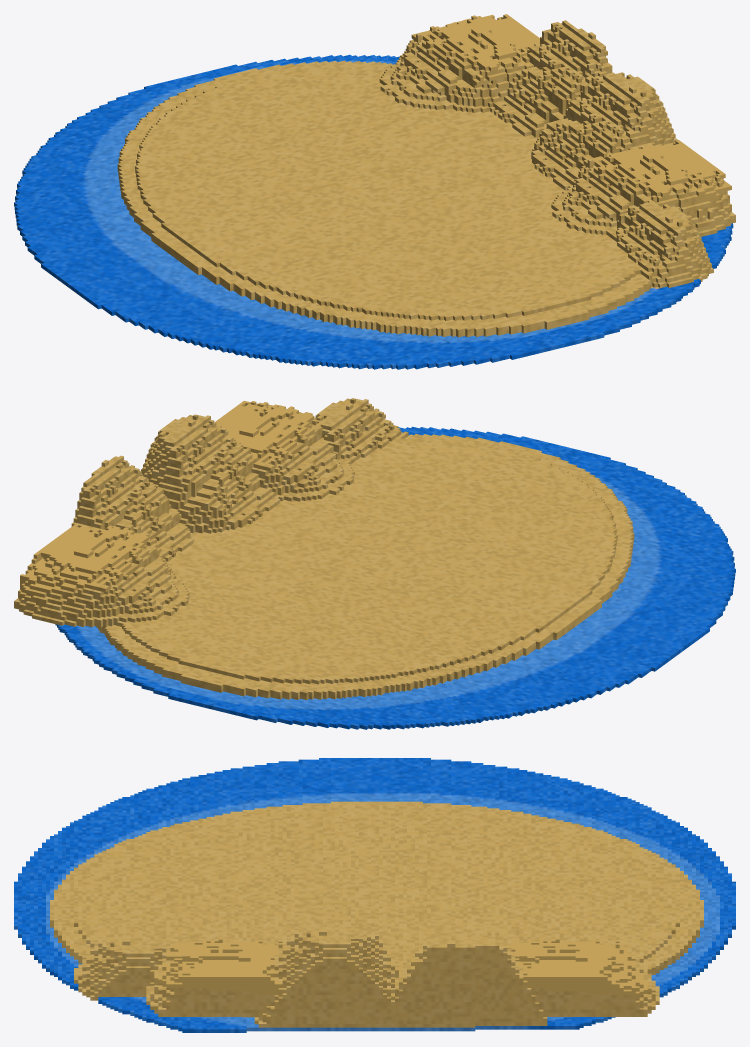
Rendered from Map ile.fbx.
3 views of the same model, one above another, from view 1: azimuth 30°, elevation 25°; view 2: azimuth 150°, elevation 25°; view 3: azimuth 270°, elevation 25° (orthographic). The views are drawn at different scales.
Visible parts, largest first — view 1: Union_1; view 2: Union_1; view 3: Union_1.
Part boxes in pixels (x1,y1,x2,y2): Union_1: (14, 14, 735, 369); Union_1: (14, 398, 735, 729); Union_1: (14, 758, 735, 1032).
Size of the model in its own units: 160 by 24 by 180.
